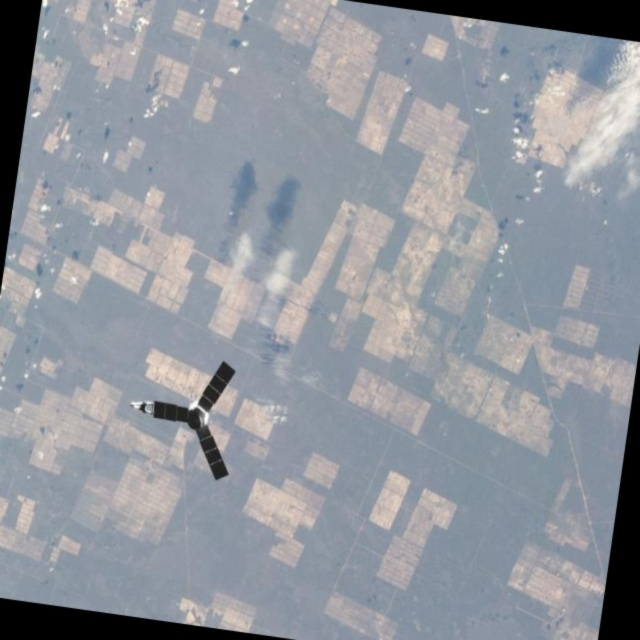satellite: (112, 363, 265, 492)
